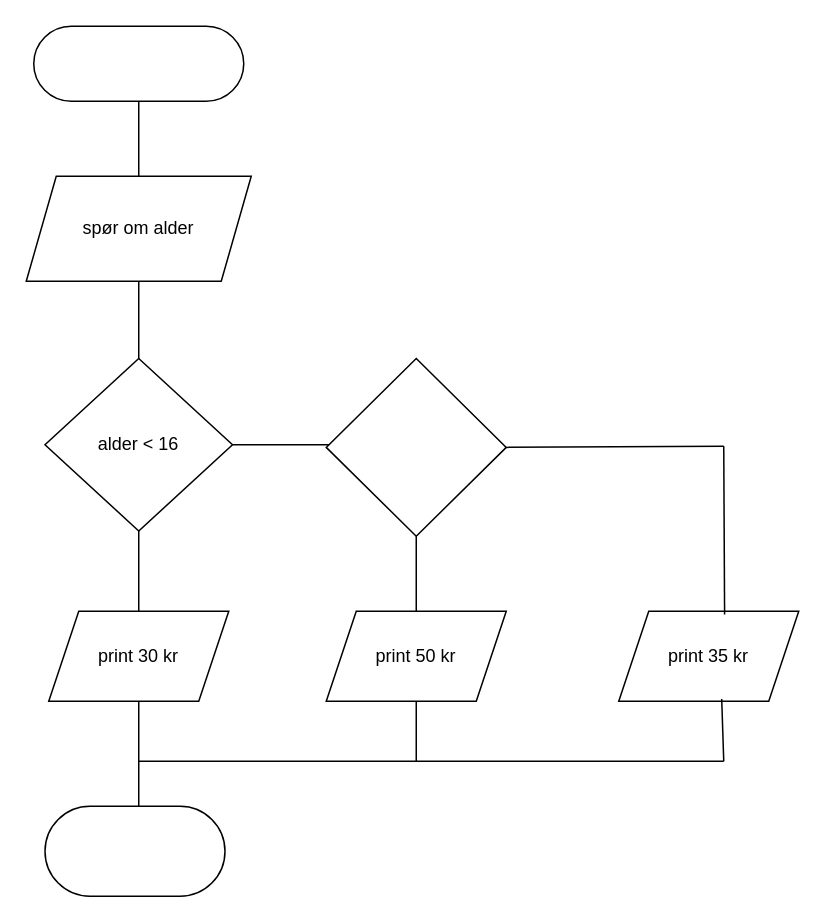
Image size: 825x923. Some labels were removed from this diagram. The shapes that lost their labels are listed below. From the top down, each one's centre as x and y in pixels, then its label:
At (138,63): "start".
At (415,446): "alder < 67".
At (134,850): "slutt".
